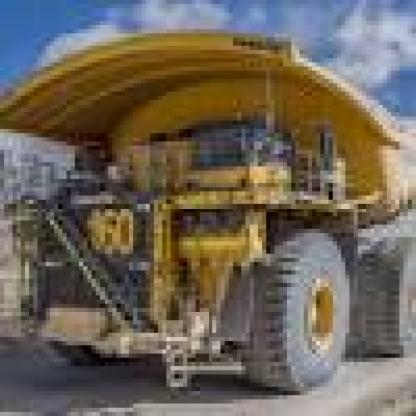dump_truck: (4, 33, 412, 387)
